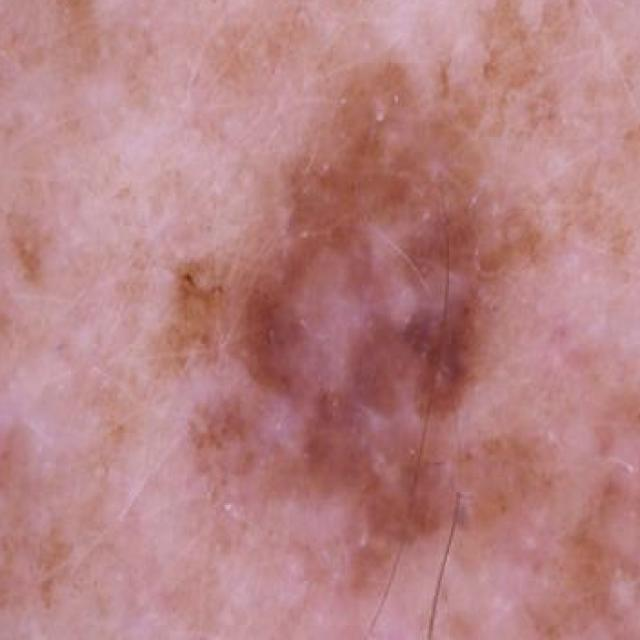MEL: (151, 18, 640, 620)
